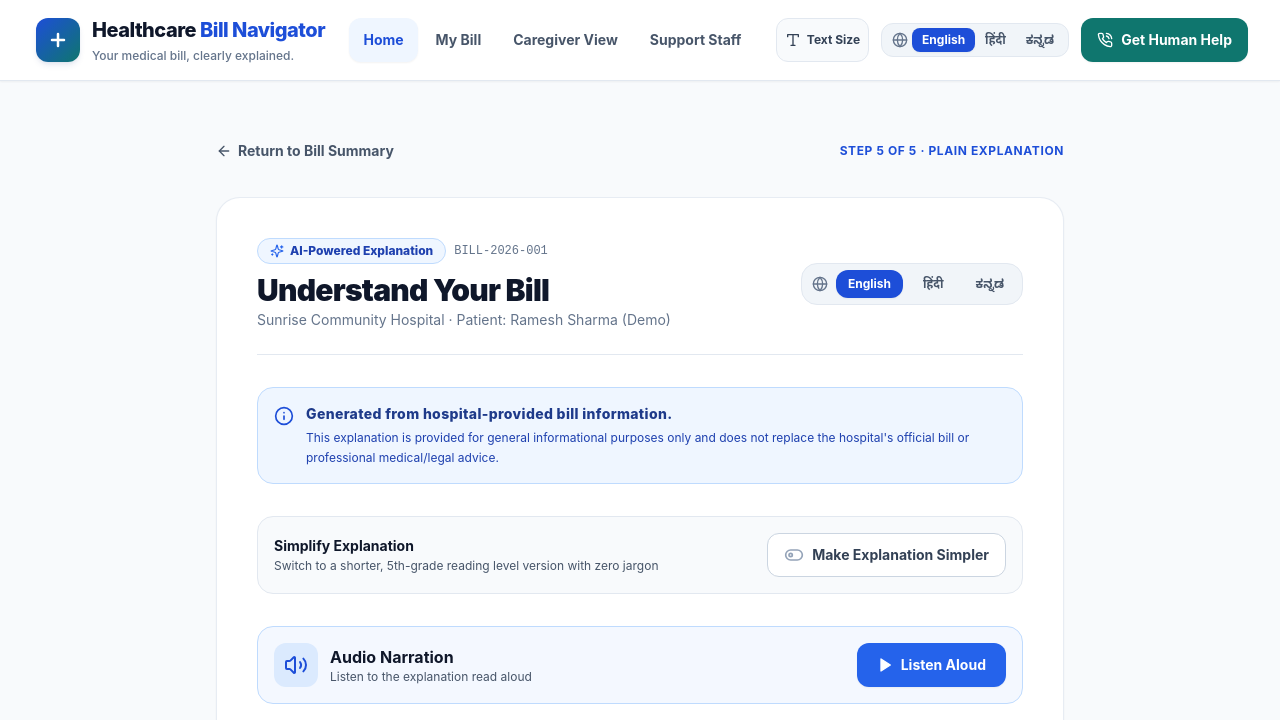
it: ExplanationPage › toggles simpler 5th-grade explanation version
Click the button "Make Explanation Simpler".
click(887, 555)  # box left=767, top=533, right=1006, bottom=577
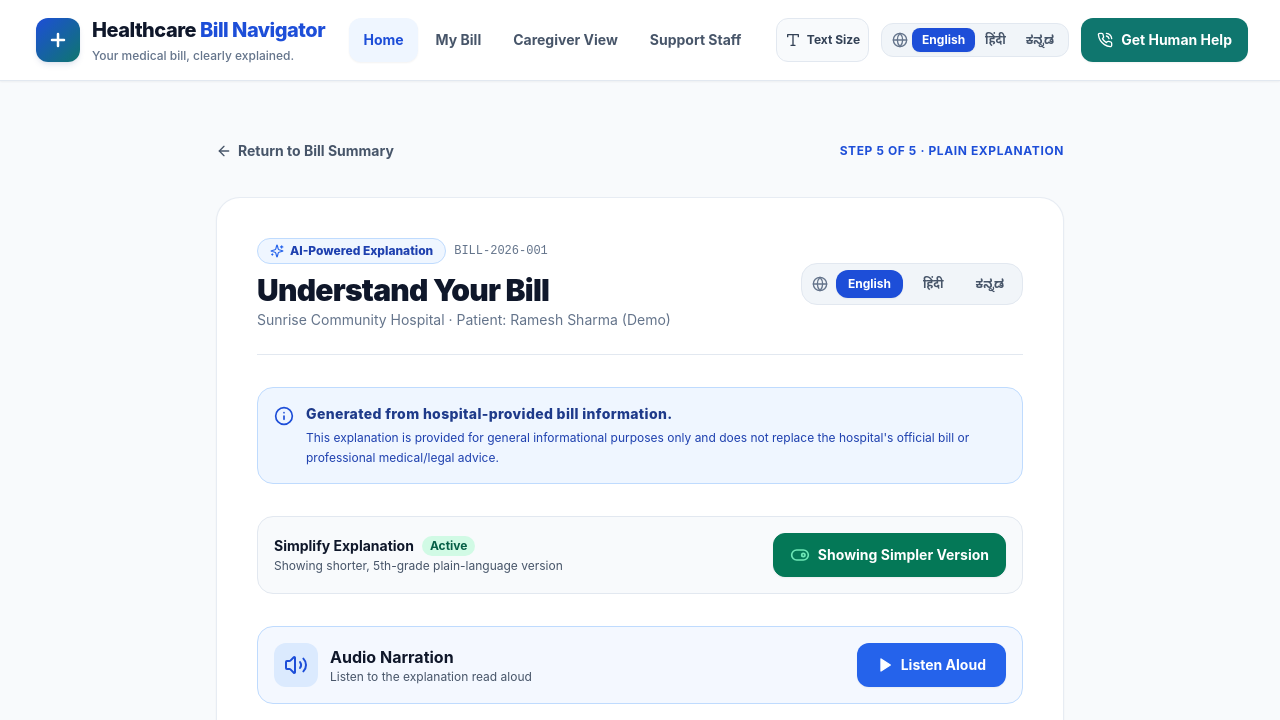
Check: the text "Showing Simpler Version" is shown, box left=818, top=545, right=989, bottom=565
Check: the text "Showing shorter, 5th-grade plain-language version" is shown, box left=274, top=558, right=563, bottom=574
